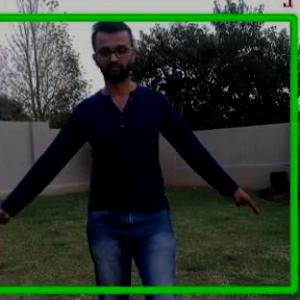land: (1, 32, 259, 299)
